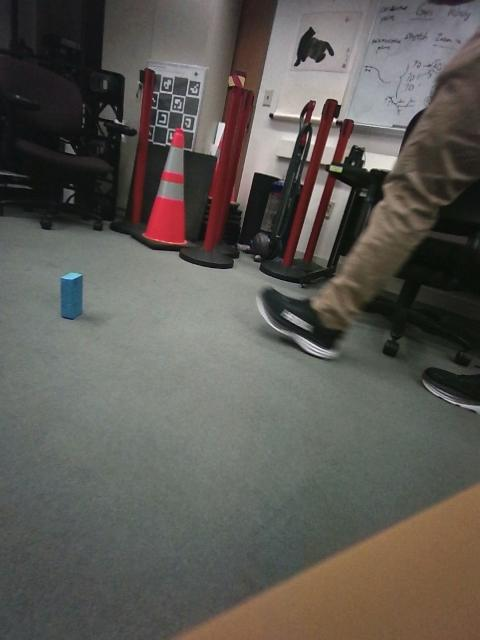block: (2, 329, 48, 408)
